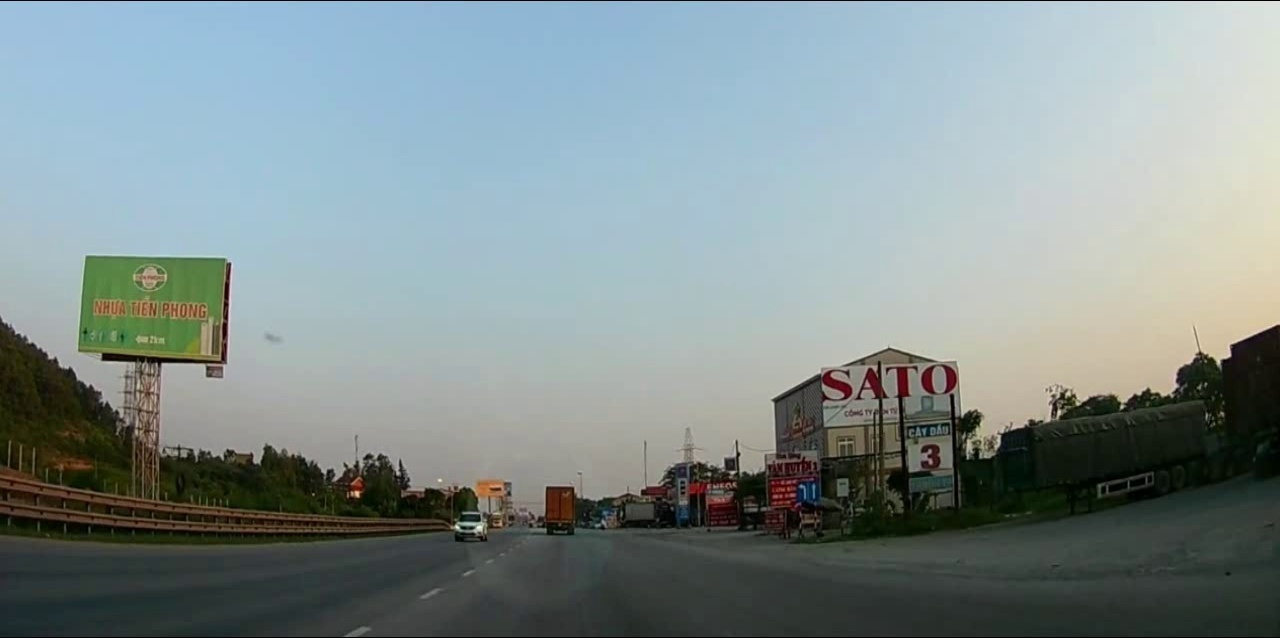Bien khac: (794, 477, 821, 504)
